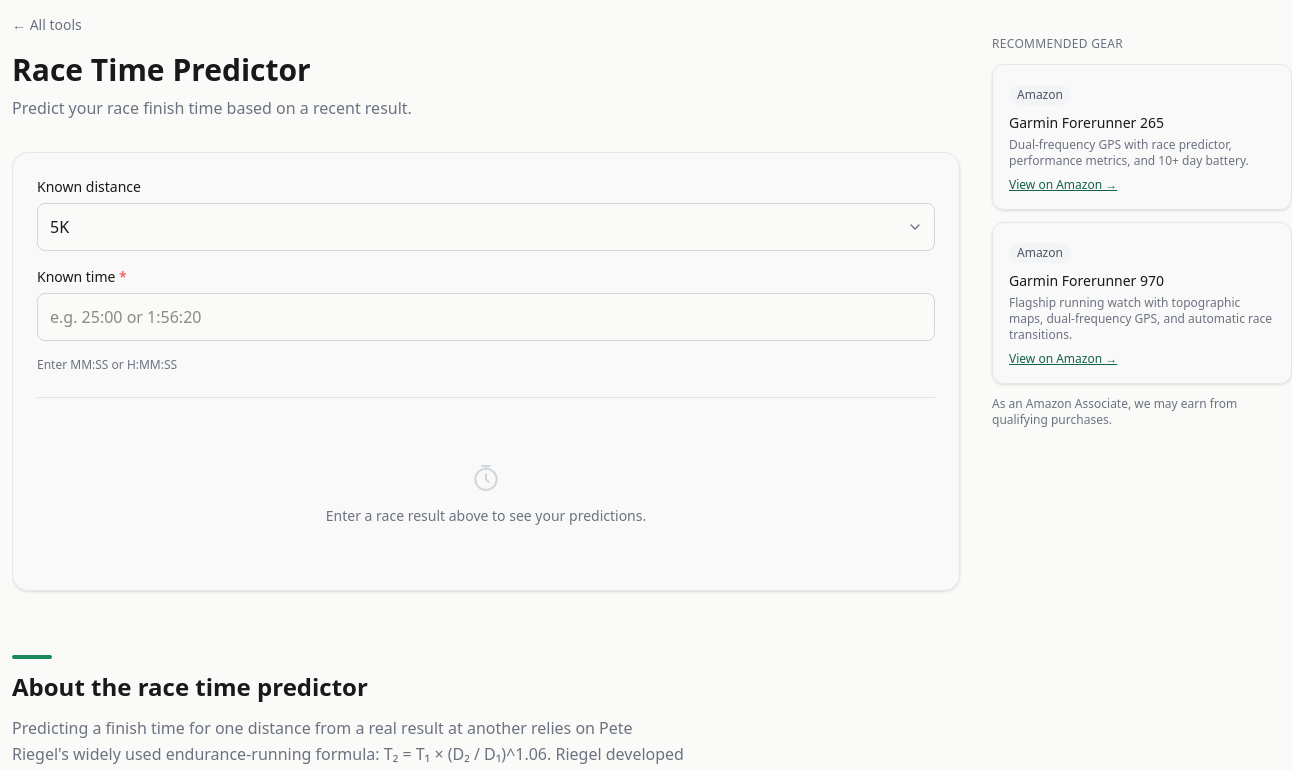
Test: RacePredictor page › selecting Custom reveals the custom km label
Select "Custom (km)" in the dropdown labelled "Known distance" at (486, 227), box [37,203,935,251]
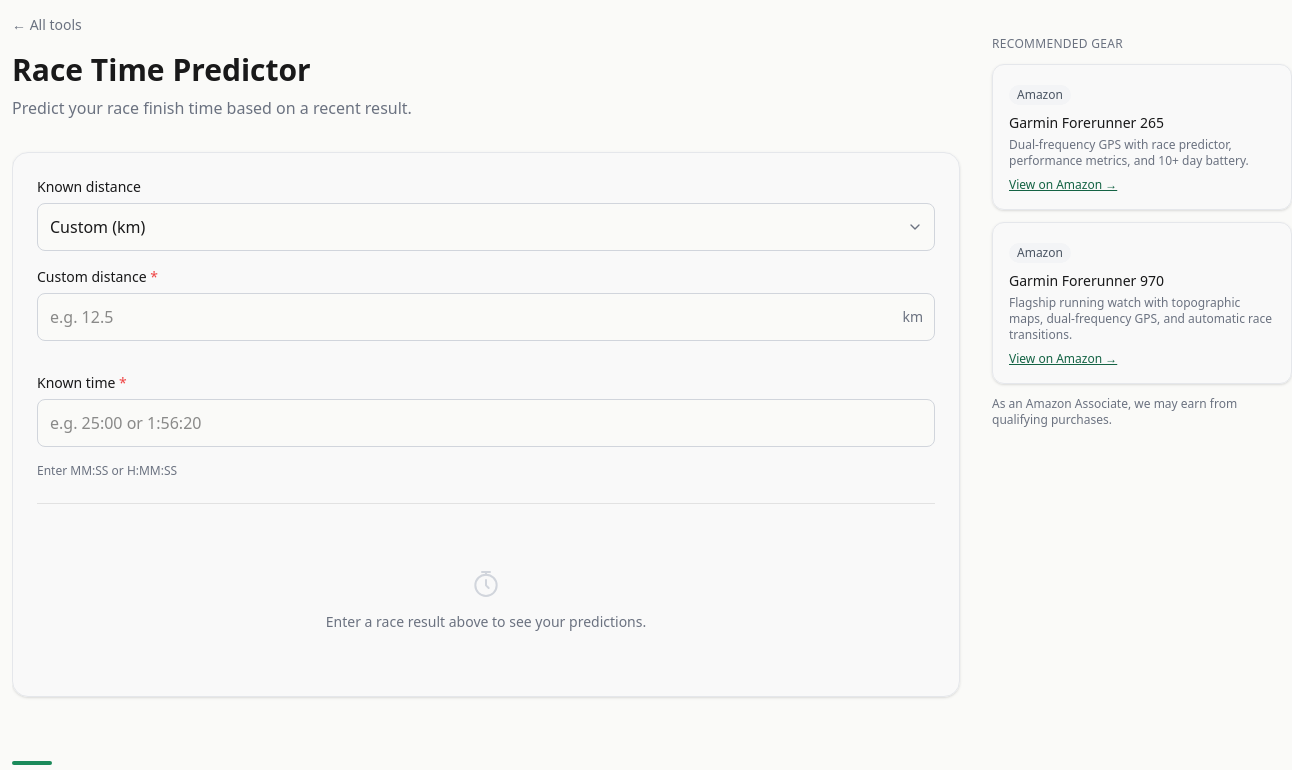
Result: the field labelled "Custom distance *" is shown at [37,293,935,341]
